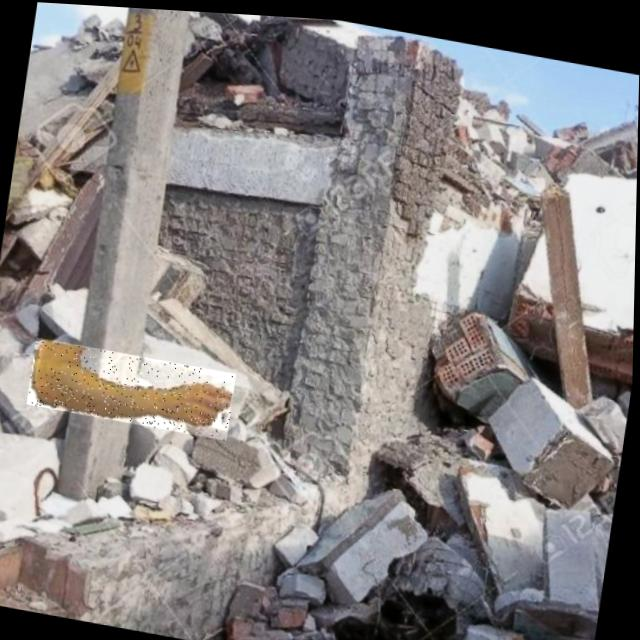Person in Rubble: (28, 336, 238, 438)
